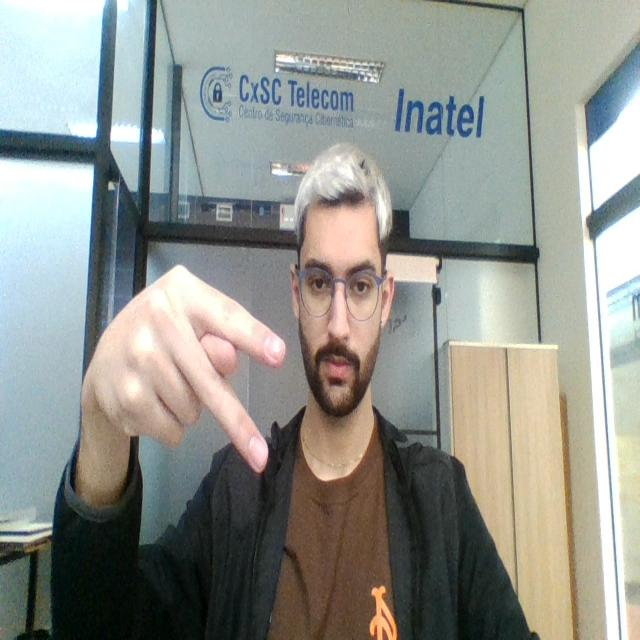P: (74, 252, 289, 492)
